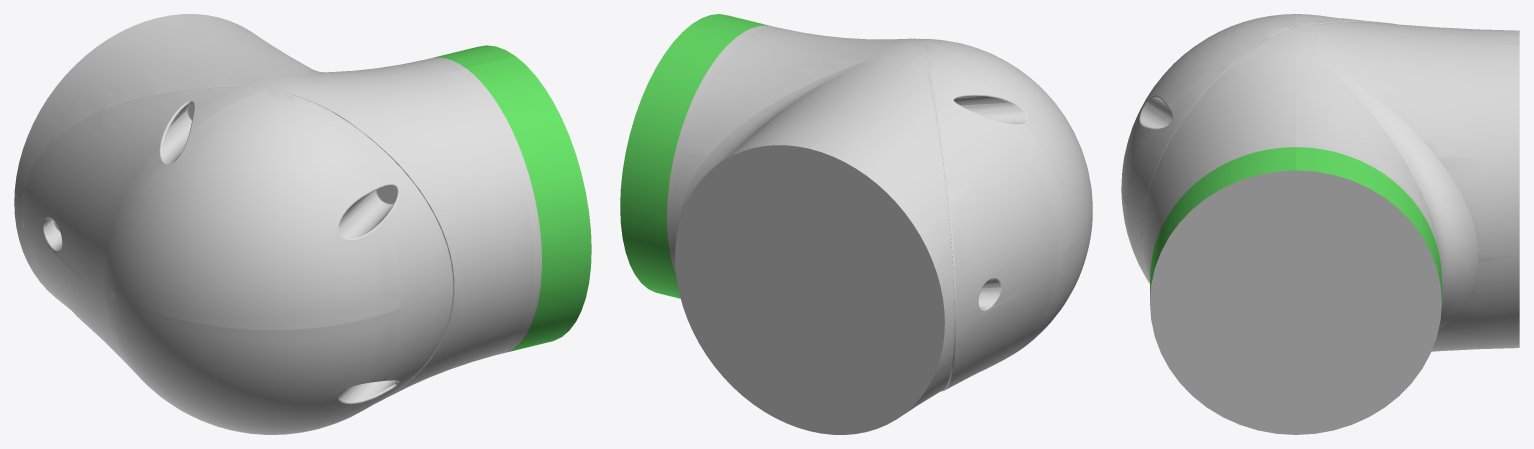
The picture shows the model from 3 angles, left to right: view 1: azimuth 30°, elevation 25°; view 2: azimuth 150°, elevation 25°; view 3: azimuth 270°, elevation 25°; orthographic projection. The views are drawn at different scales.
Visible parts, largest first — view 1: Mesh_0.006; view 2: Mesh_0.006; view 3: Mesh_0.006.
Boxes of the visible parts, x1=… form: Mesh_0.006: x1=14, y1=14, x2=591, y2=434; Mesh_0.006: x1=620, y1=14, x2=1092, y2=434; Mesh_0.006: x1=1121, y1=14, x2=1519, y2=434.
Bounding box in the file's own units: 0.1401 × 0.1255 × 0.11.
